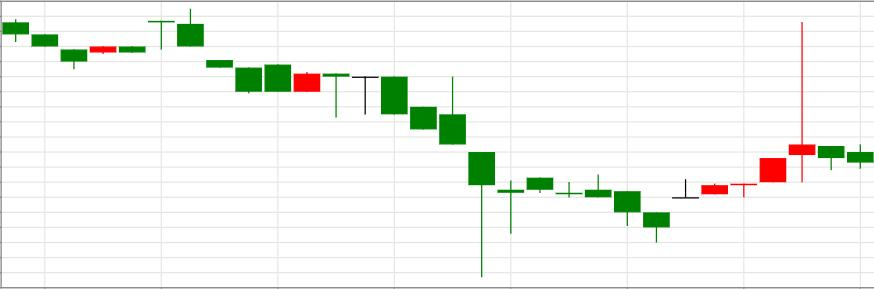hammer_rise: (264, 63, 495, 278)
